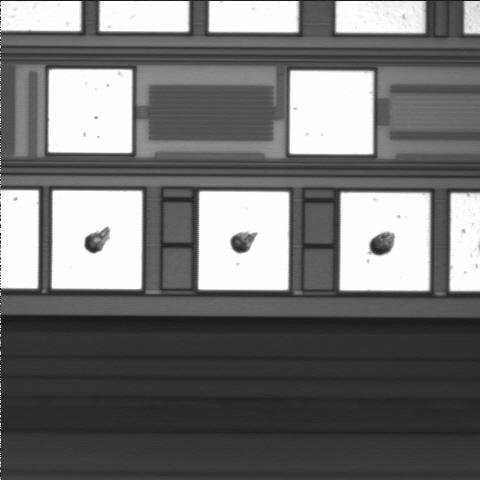pad: (198, 191, 289, 290), (52, 191, 142, 289), (340, 193, 430, 291), (49, 69, 132, 153), (290, 71, 373, 154)
